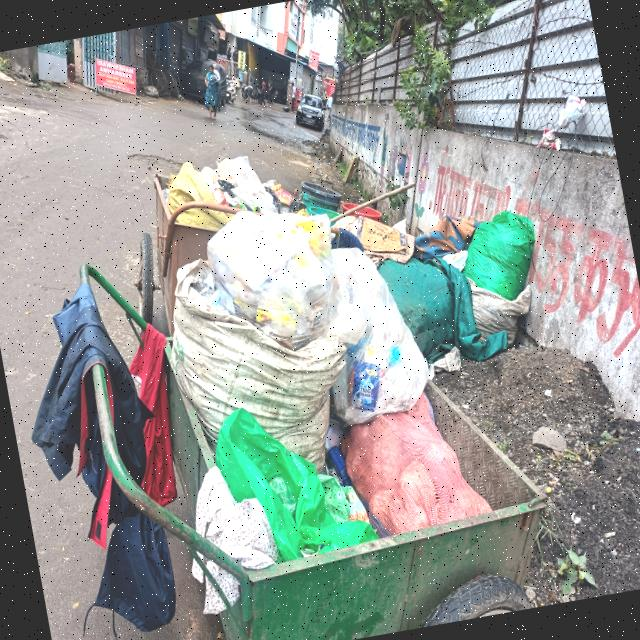garbage: (132, 114, 574, 578)
